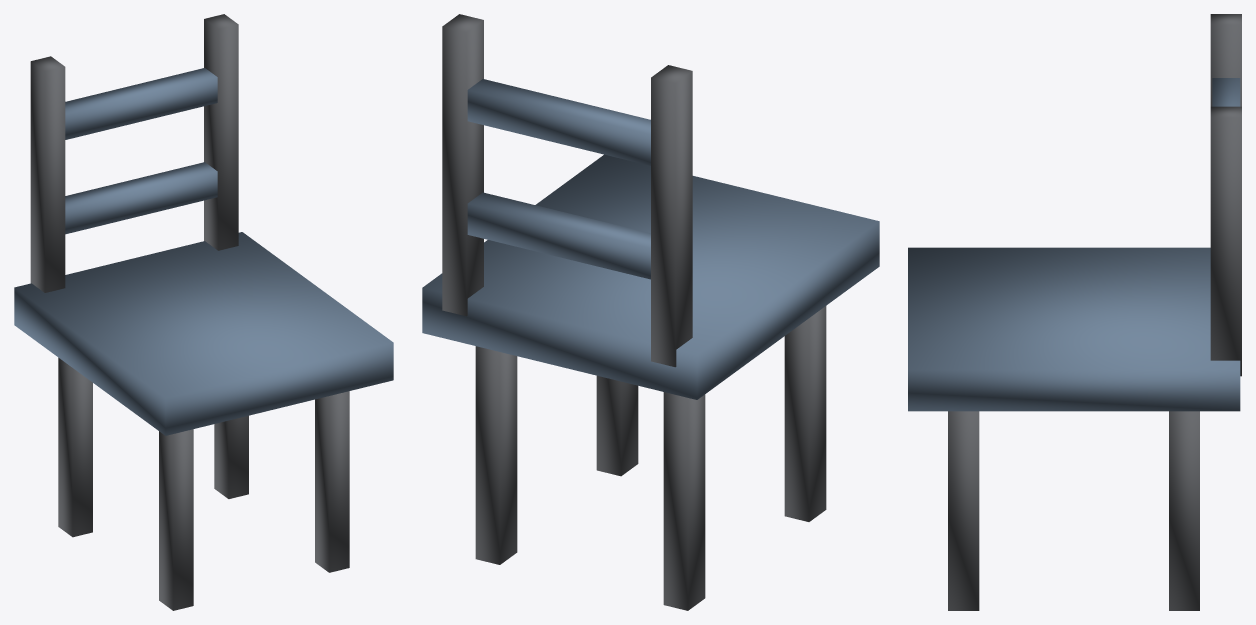
File: jury_chair__deep.glb
The picture shows the model from 3 angles, left to right: view 1: azimuth 30°, elevation 25°; view 2: azimuth 150°, elevation 25°; view 3: azimuth 270°, elevation 25°; orthographic projection. The views are drawn at different scales.
Visible parts, largest first — view 1: world; view 2: world; view 3: world.
Part boxes in pixels (x1=…): world: x1=14, y1=14, x2=393, y2=610; world: x1=422, y1=14, x2=879, y2=610; world: x1=908, y1=14, x2=1241, y2=610.
Bounding box in the file's own units: 0.5065 × 0.9631 × 0.5852.
